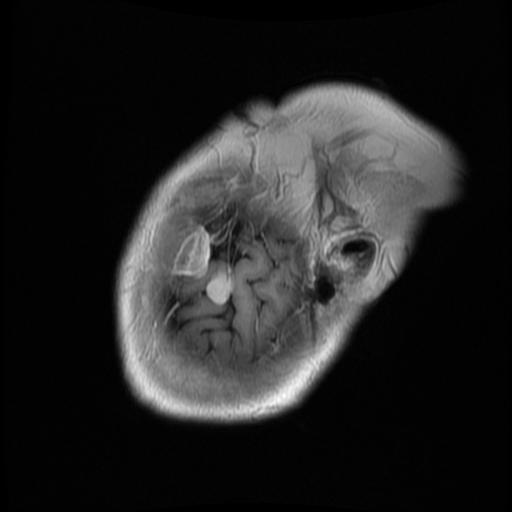meningioma: (205, 271, 231, 305)
